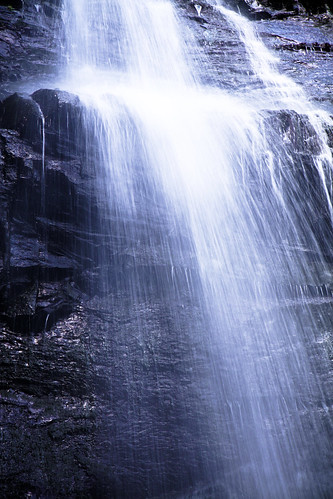wufengciWaterfall: (46, 2, 312, 495)
